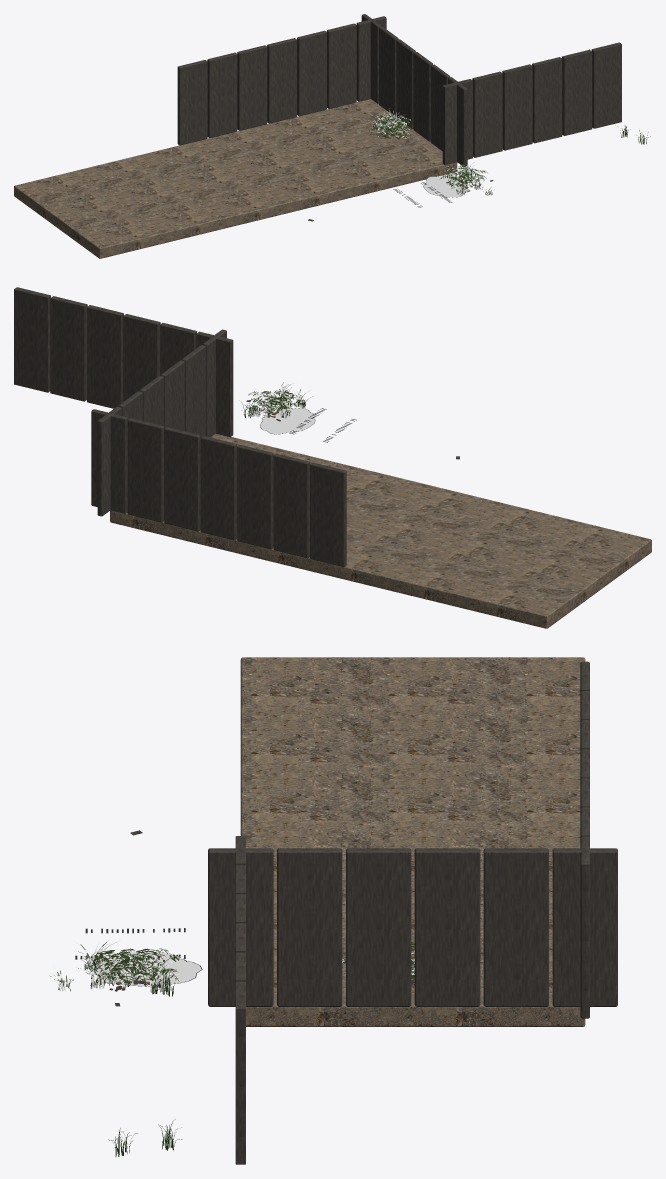
File: SM_Env_Tile_p0_m3.fbx
3 renders of one model, top to bottom at view 1: azimuth 30°, elevation 25°; view 2: azimuth 150°, elevation 25°; view 3: azimuth 270°, elevation 25°, orthographic. The views are drawn at different scales.
Visible parts, largest first — view 1: SM_Env_Tile_p0_m3; view 2: SM_Env_Tile_p0_m3; view 3: SM_Env_Tile_p0_m3.
Boxes of the visible parts, x1,y1,x2,y2 form: SM_Env_Tile_p0_m3: (14,14,650,258); SM_Env_Tile_p0_m3: (14,287,651,628); SM_Env_Tile_p0_m3: (50,657,617,1164).
Size of what is drawn, in the model's own units: 1747 by 827 by 286.
8 materials, 4 textured.
